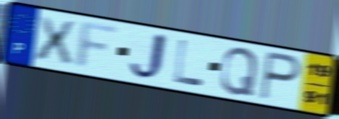F: (72, 20, 124, 73)
J: (126, 31, 170, 83)
L: (172, 38, 205, 88)
P: (257, 49, 303, 103)
Q: (218, 46, 260, 98)
X: (33, 14, 77, 66)
